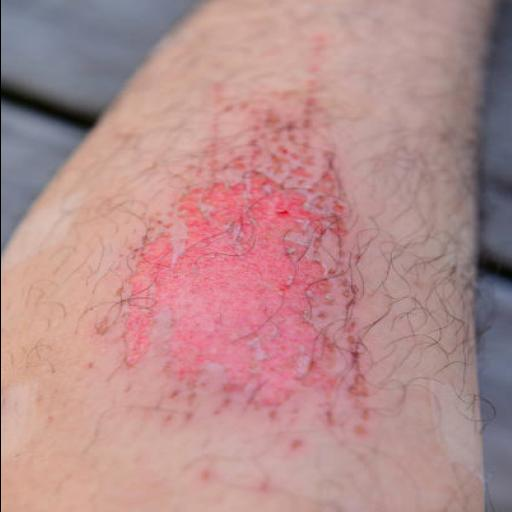bruises: (216, 147, 344, 299)
